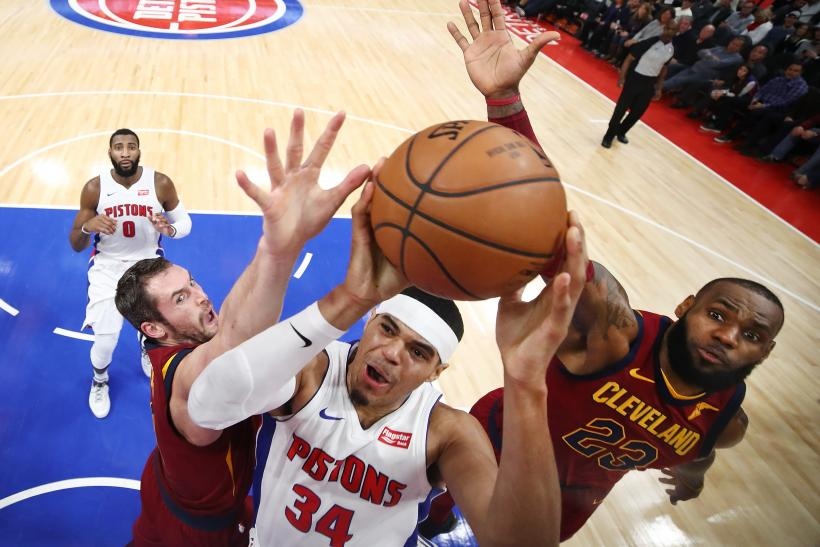Basketball: (359, 111, 579, 308)
